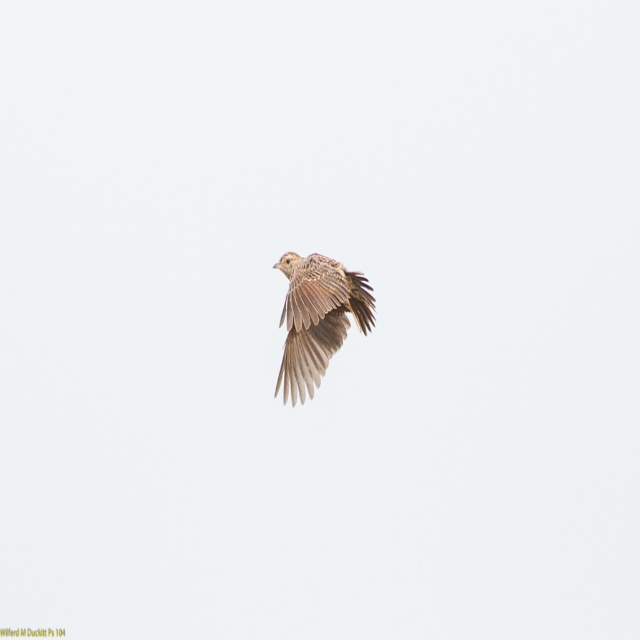Eagle: (271, 228, 378, 405)
